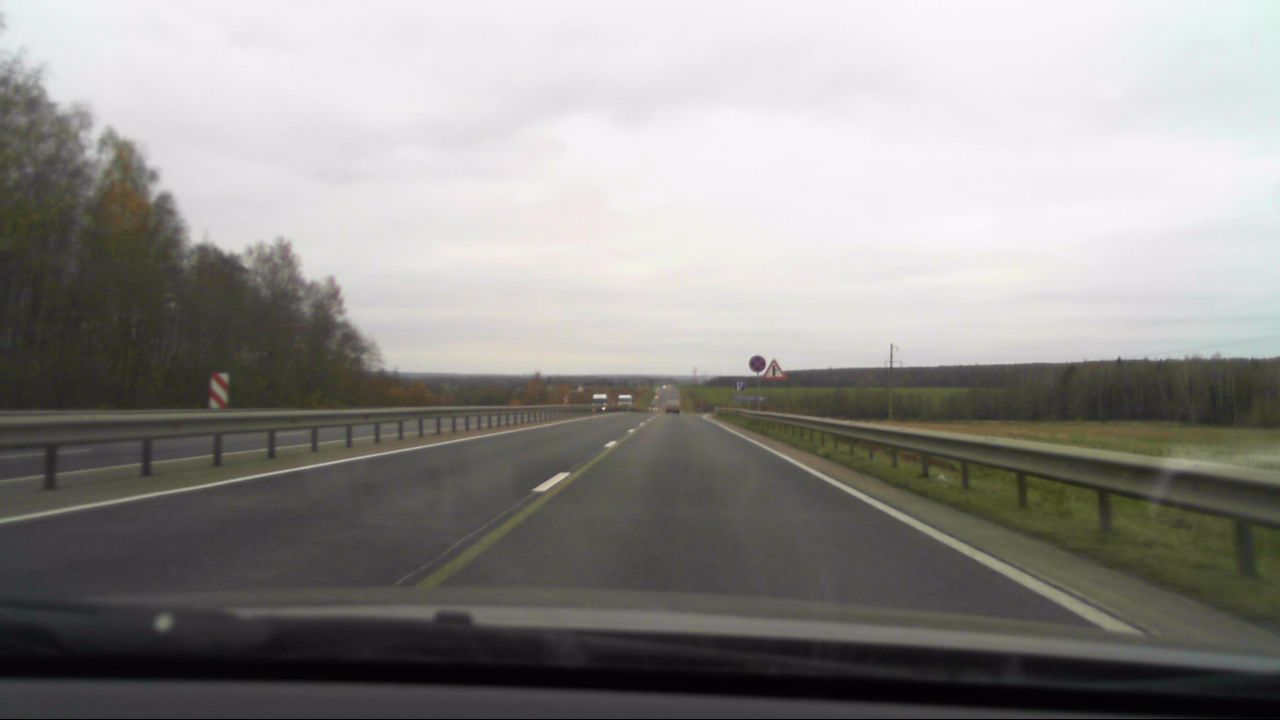No Parking: (746, 354, 764, 372)
